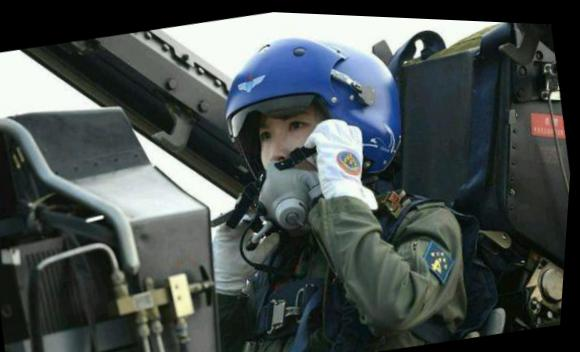WRONG: (243, 91, 344, 191)
